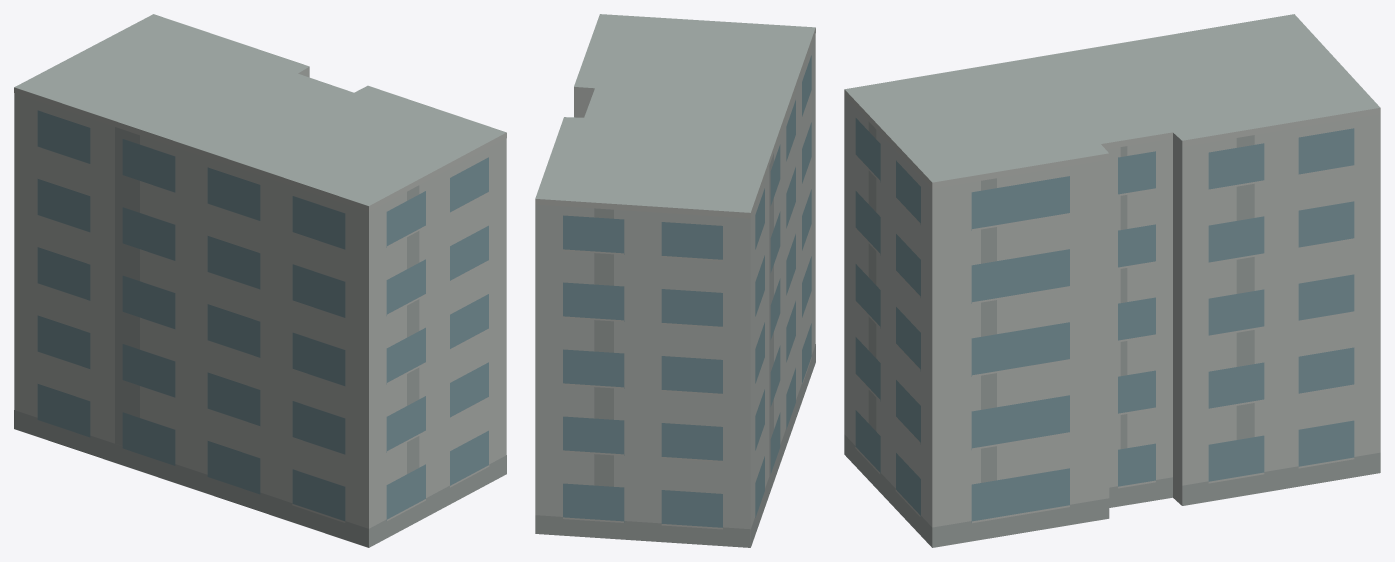
Rendered from survey-upis-32886633.glb.
3 views of the same model, side by side, from view 1: azimuth 30°, elevation 25°; view 2: azimuth 150°, elevation 25°; view 3: azimuth 270°, elevation 25° (orthographic). The views are drawn at different scales.
Visible parts, largest first — view 1: survey-upis-32886633.tmp; view 2: survey-upis-32886633.tmp; view 3: survey-upis-32886633.tmp.
Part boxes in pixels (x1,y1,x2,y2): survey-upis-32886633.tmp: (14,14,506,547); survey-upis-32886633.tmp: (535,14,815,547); survey-upis-32886633.tmp: (844,14,1380,547).
Size of the model in its own units: 14.06 by 14.2 by 18.9.
